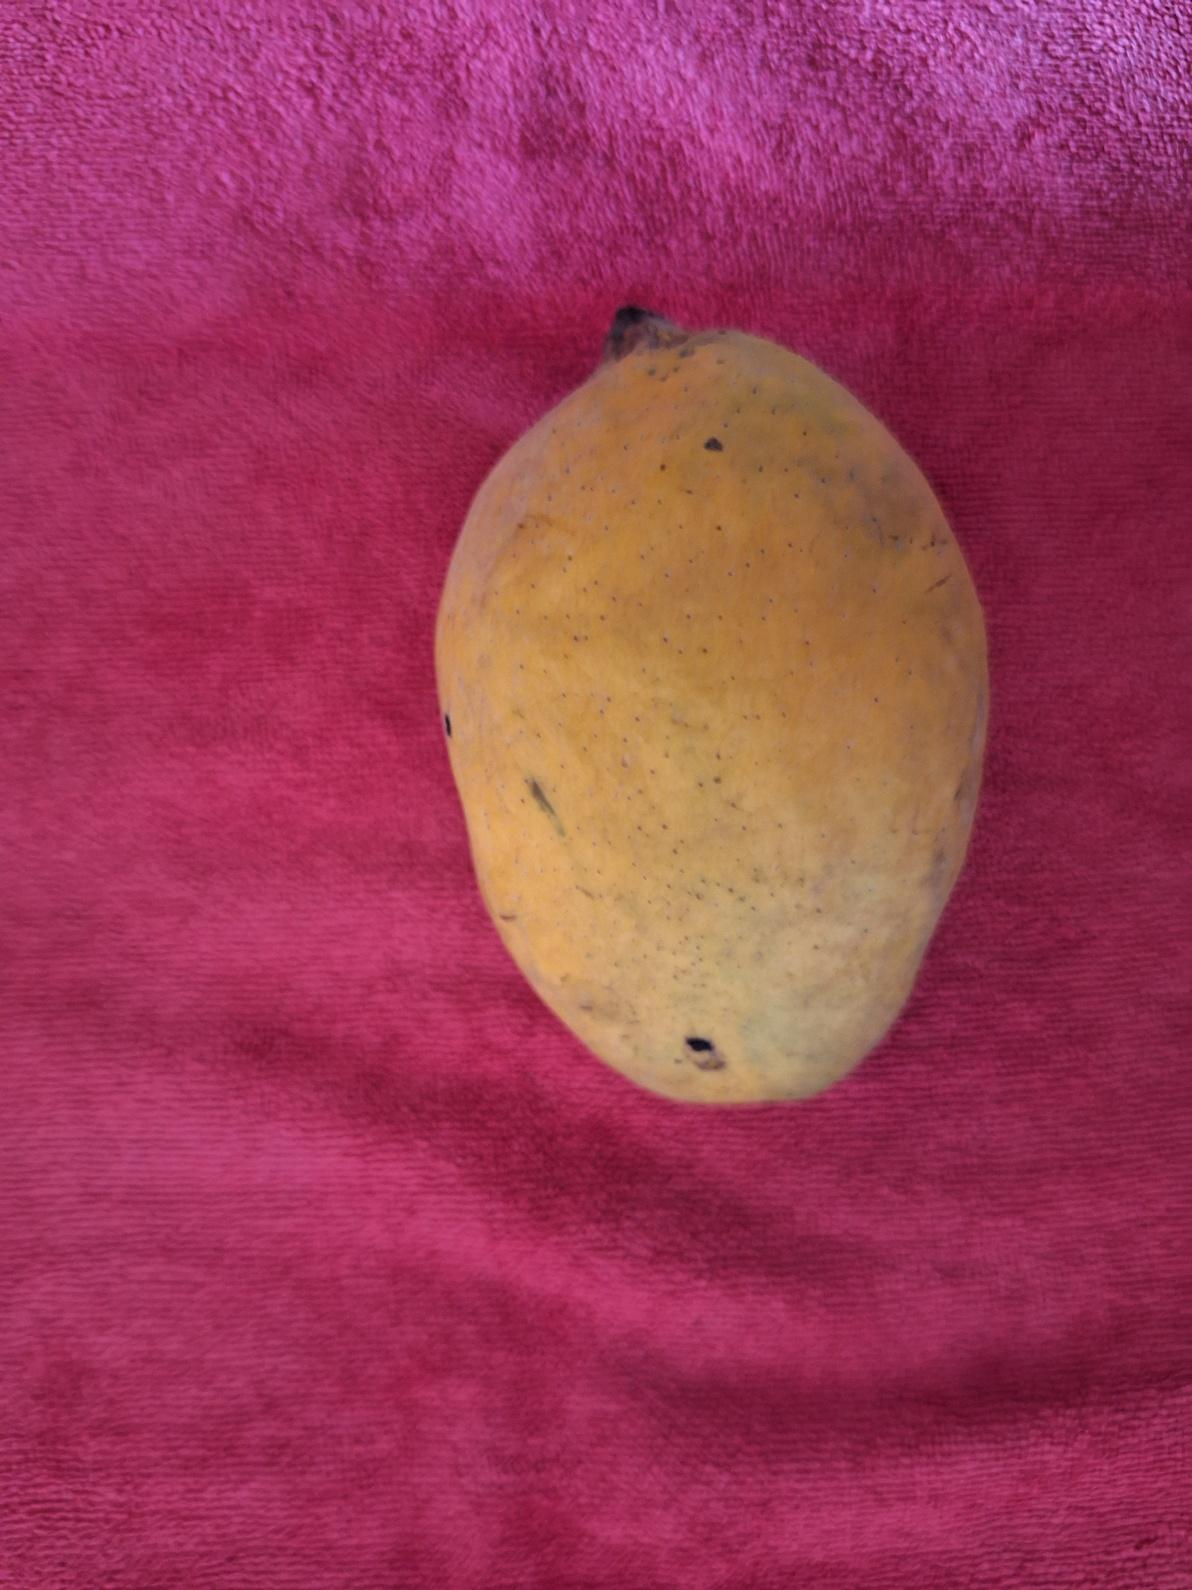mango: (432, 302, 990, 1105)
